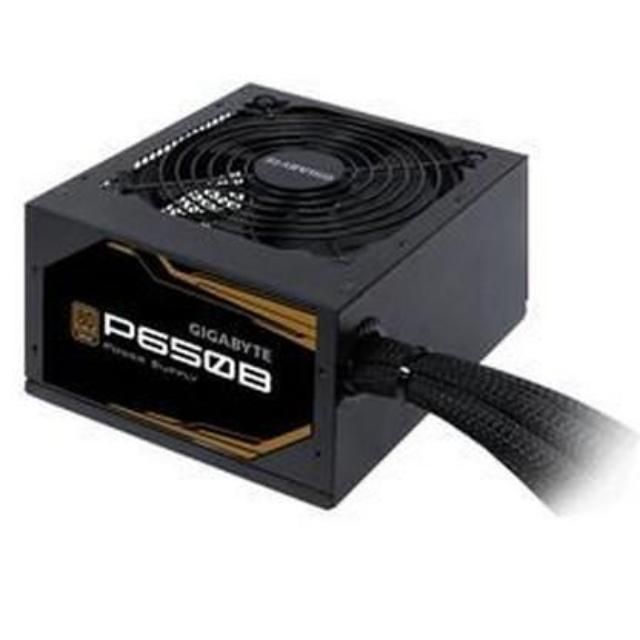PSU: (12, 68, 540, 516)
